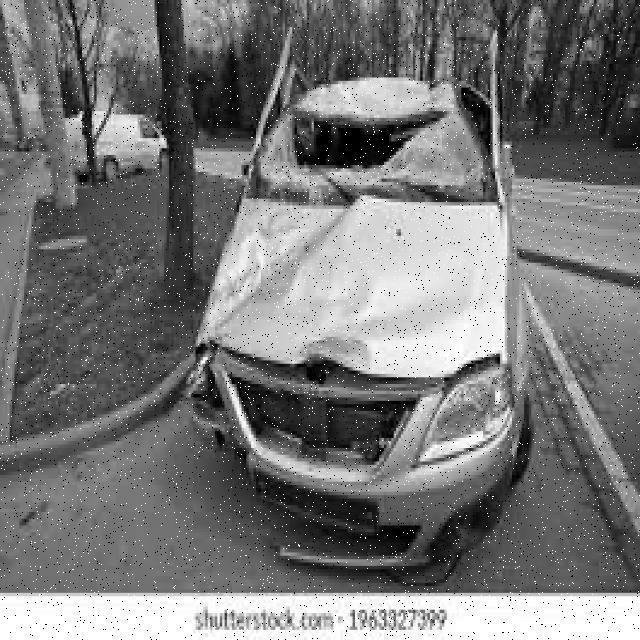Front-windscreen-damage: (241, 74, 499, 202)
bonnet-dent: (194, 199, 517, 387)
front-bumper-dent: (189, 387, 522, 565)
